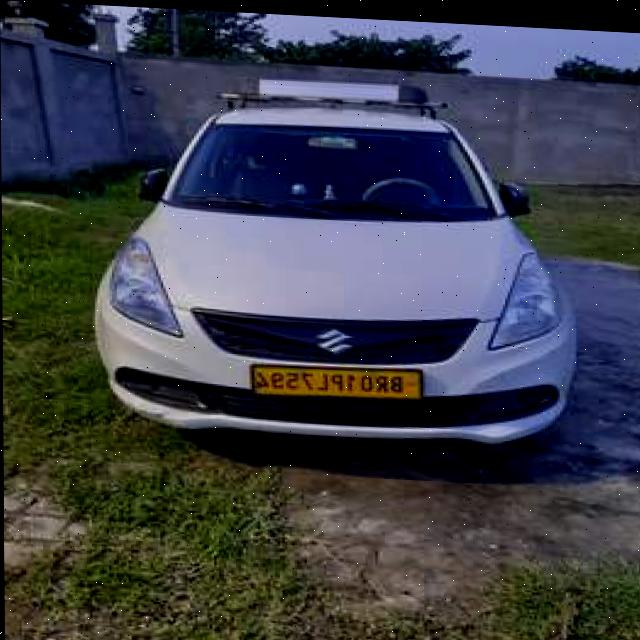plate: (251, 356, 425, 399)
